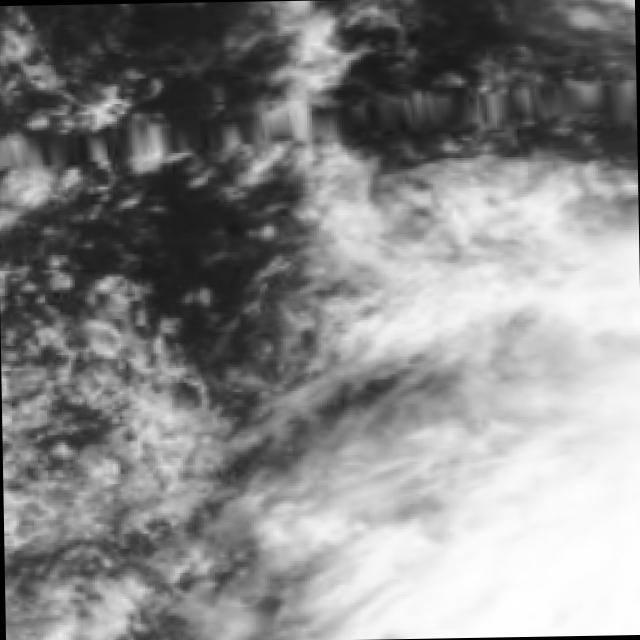CB: (475, 464, 640, 635)
